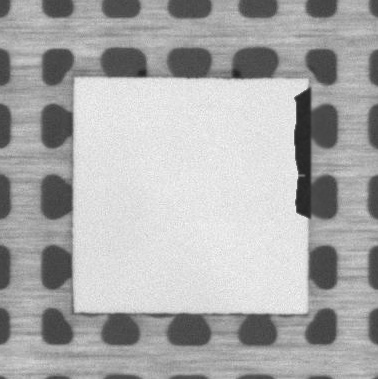DIE_BROKEN: (291, 85, 313, 225)
